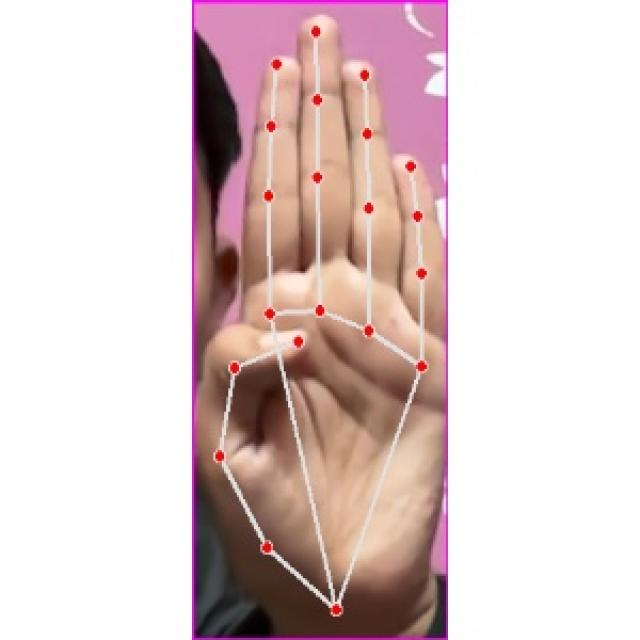B: (197, 1, 449, 632)
